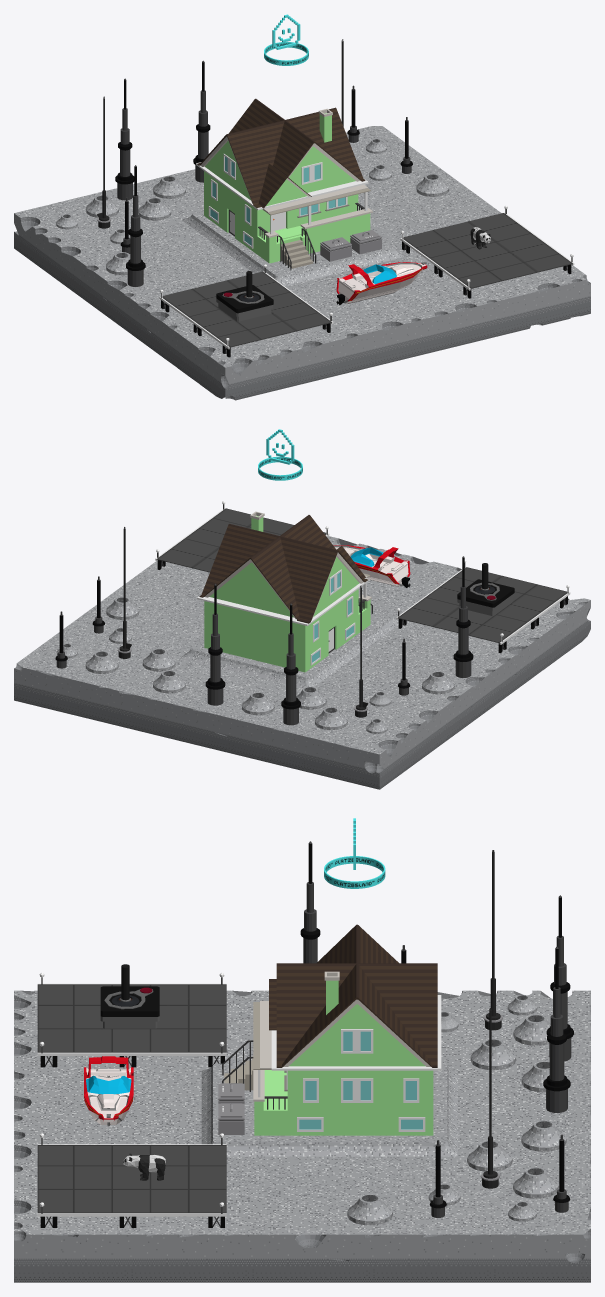
3 views of the same model, one above another, from view 1: azimuth 30°, elevation 25°; view 2: azimuth 150°, elevation 25°; view 3: azimuth 270°, elevation 25° (orthographic). The views are drawn at different scales.
Parts seen in each view (by area): view 1: Cube.027, Cube.274, Cube.026, Cube.025, Cube.028, VEHICLES_BOAT, OBJRANDOM_JOYSTICK, Cylinder.021, Cylinder.020, Cylinder.017, TYPE_PREMIUM, Cube.029 (+4 smaller); view 2: Cube.027, Cube.274, Cube.025, Cube.028, Cube.026, VEHICLES_BOAT, OBJRANDOM_JOYSTICK, Cylinder.017, Cylinder.021, Cylinder.020, TYPE_PREMIUM, Cylinder.030 (+8 smaller); view 3: Cube.027, Cube.274, Cube.026, Cube.025, Cube.028, VEHICLES_BOAT, OBJRANDOM_JOYSTICK, Cylinder.017, Cylinder.020, Cylinder.021, TYPE_PREMIUM, Cylinder.033 (+12 smaller).
Part boxes in pixels (<box>): Cube.027: <box>14,126,590,400</box>; Cube.274: <box>196,98,372,269</box>; Cube.026: <box>400,205,574,298</box>; Cube.025: <box>159,264,333,357</box>; Cube.028: <box>182,211,403,286</box>; VEHICLES_BOAT: <box>336,261,427,305</box>; OBJRANDOM_JOYSTICK: <box>216,271,273,321</box>; Cylinder.021: <box>126,165,145,286</box>; Cylinder.020: <box>115,78,134,200</box>; Cylinder.017: <box>193,60,210,182</box>; TYPE_PREMIUM: <box>264,14,308,65</box>; Cube.029: <box>320,237,351,261</box>; Cube.027: <box>14,536,590,789</box>; Cube.274: <box>197,511,372,672</box>; Cube.025: <box>396,560,570,653</box>; Cube.028: <box>181,610,398,688</box>; Cube.026: <box>155,501,329,572</box>; VEHICLES_BOAT: <box>333,545,410,587</box>; OBJRANDOM_JOYSTICK: <box>457,563,514,615</box>; Cylinder.017: <box>205,583,225,705</box>; Cylinder.021: <box>453,556,473,677</box>; Cylinder.020: <box>281,603,300,725</box>; TYPE_PREMIUM: <box>258,429,302,480</box>; Cylinder.030: <box>142,648,175,671</box>; Cube.027: <box>14,990,590,1282</box>; Cube.274: <box>222,924,441,1135</box>; Cube.026: <box>37,1133,226,1227</box>; Cube.025: <box>37,973,226,1067</box>; Cube.028: <box>201,1063,457,1156</box>; VEHICLES_BOAT: <box>84,1056,133,1126</box>; OBJRANDOM_JOYSTICK: <box>100,964,159,1028</box>; Cylinder.017: <box>543,946,570,1112</box>; Cylinder.020: <box>546,895,573,1061</box>; Cylinder.021: <box>300,841,320,963</box>; TYPE_PREMIUM: <box>324,818,385,888</box>; Cylinder.033: <box>347,1194,392,1225</box>.
Size of the model in its own units: 4000 by 2804 by 4000.
Materials: 36 (5 with a texture image).
